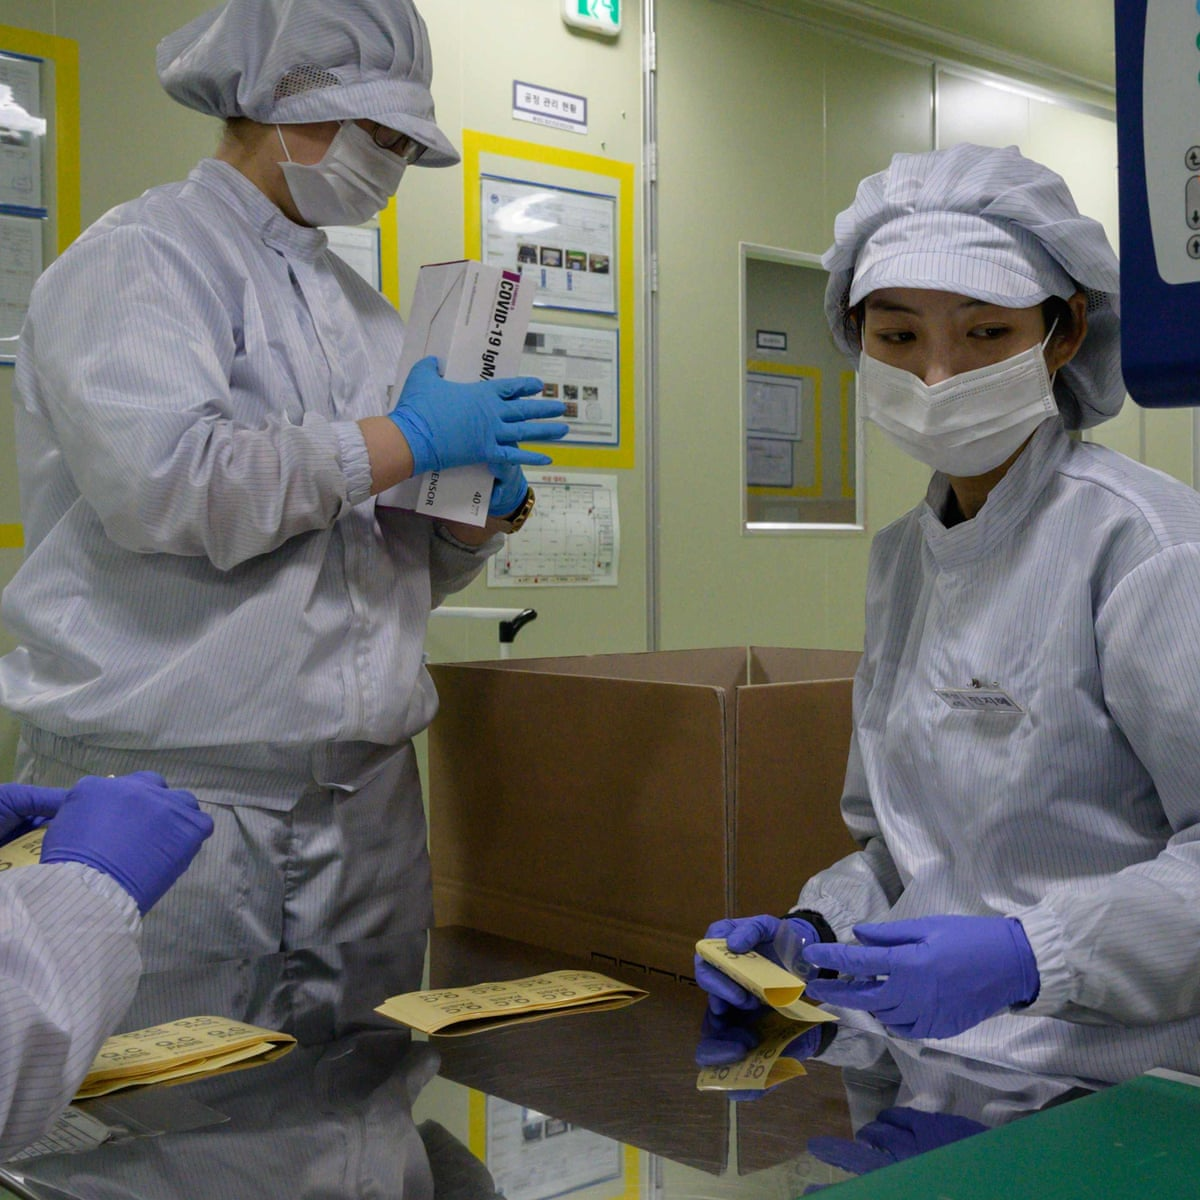Gloves: (801, 909, 1039, 1046), (39, 768, 229, 902), (383, 355, 587, 474), (688, 905, 821, 1038)
with_mask: (848, 305, 1044, 477), (288, 101, 410, 234)
